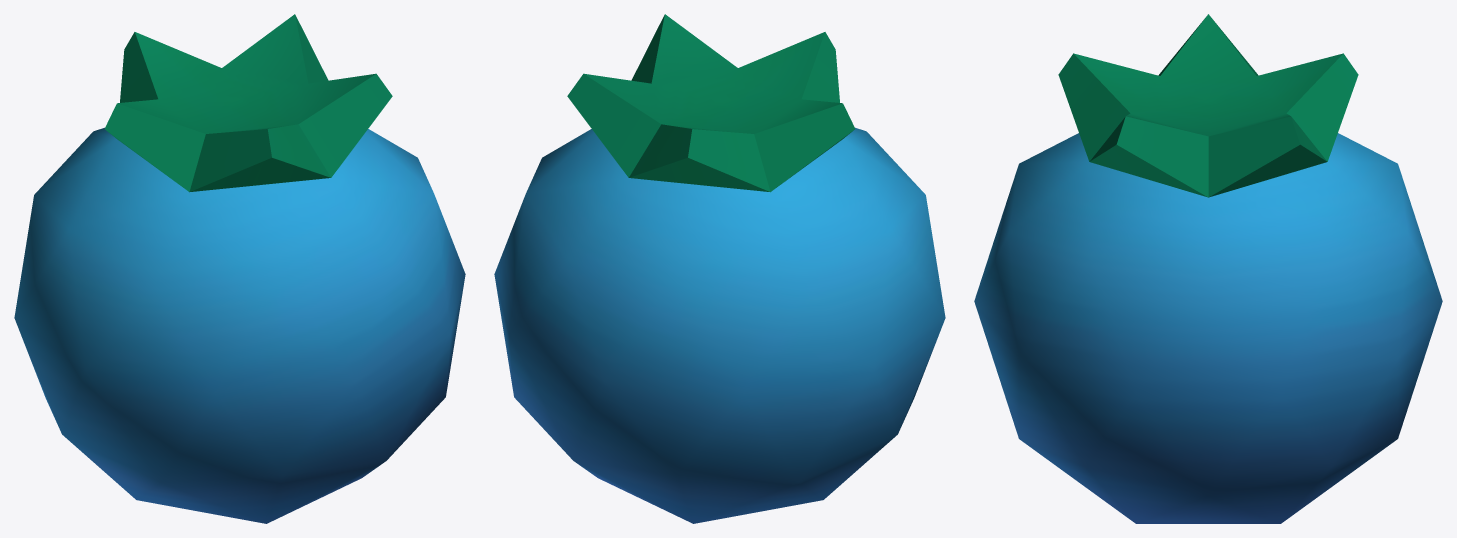
File: food_berry_blue.glb
3 views of the same model, side by side, from view 1: azimuth 30°, elevation 25°; view 2: azimuth 150°, elevation 25°; view 3: azimuth 270°, elevation 25° (orthographic).
Parts seen in each view (by area): view 1: Food_Berry_Blue; view 2: Food_Berry_Blue; view 3: Food_Berry_Blue.
Part boxes in pixels (x1=…): Food_Berry_Blue: x1=14, y1=14, x2=465, y2=523; Food_Berry_Blue: x1=494, y1=14, x2=945, y2=523; Food_Berry_Blue: x1=974, y1=14, x2=1442, y2=523.
Size of the model in its own units: 0.234 by 0.2578 by 0.2461.
Materials: 1 (1 with a texture image).
